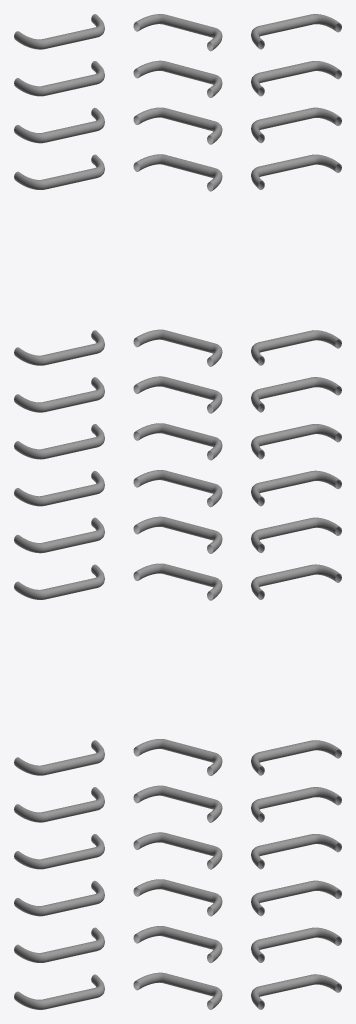
Rendered from -Ladder-.fbx.
3 views of the same model, side by side, from view 1: azimuth 90°, elevation 25°; view 2: azimuth 210°, elevation 25°; view 3: azimuth 270°, elevation 25° (orthographic).
Parts seen in each view (by area): view 1: BezierCurve.008, BezierCurve.020, BezierCurve.012, BezierCurve.014, BezierCurve.016, BezierCurve.005, BezierCurve.015, BezierCurve.018, BezierCurve.009, BezierCurve.010, BezierCurve.011, BezierCurve.006 (+4 smaller); view 2: BezierCurve.017, BezierCurve.007, BezierCurve.014, BezierCurve.015, BezierCurve.018, BezierCurve.005, BezierCurve.011, BezierCurve.006, BezierCurve.008, BezierCurve.010, BezierCurve.016, BezierCurve.019 (+4 smaller); view 3: BezierCurve.009, BezierCurve.006, BezierCurve.011, BezierCurve.016, BezierCurve.015, BezierCurve.018, BezierCurve.005, BezierCurve.010, BezierCurve.008, BezierCurve.012, BezierCurve.020, BezierCurve.004 (+4 smaller).
Boxes of the visible parts, x1,y1,x2,y2 form: BezierCurve.008: (14,787,104,822); BezierCurve.020: (14,14,104,49); BezierCurve.012: (14,470,104,506); BezierCurve.014: (14,424,104,459); BezierCurve.016: (14,330,104,365); BezierCurve.005: (14,880,104,916); BezierCurve.015: (14,377,104,412); BezierCurve.018: (14,107,104,143); BezierCurve.009: (14,740,104,775); BezierCurve.010: (14,564,104,599); BezierCurve.011: (14,517,104,553); BezierCurve.006: (14,974,104,1009); BezierCurve.017: (133,154,222,191); BezierCurve.007: (133,832,222,869); BezierCurve.014: (133,423,222,460); BezierCurve.015: (133,376,222,413); BezierCurve.018: (133,107,222,144); BezierCurve.005: (133,879,222,916); BezierCurve.011: (133,516,222,553); BezierCurve.006: (133,972,222,1009); BezierCurve.008: (133,785,222,822); BezierCurve.010: (133,563,222,600); BezierCurve.016: (133,329,222,366); BezierCurve.019: (133,60,222,97); BezierCurve.009: (251,740,341,775); BezierCurve.006: (251,974,341,1009); BezierCurve.011: (251,517,341,553); BezierCurve.016: (251,330,341,365); BezierCurve.015: (251,377,341,412); BezierCurve.018: (251,107,341,143); BezierCurve.005: (251,880,341,916); BezierCurve.010: (251,564,341,599); BezierCurve.008: (251,787,341,822); BezierCurve.012: (251,470,341,506); BezierCurve.020: (251,14,341,49); BezierCurve.004: (251,927,341,962).
Bounding box in the file's own units: 0.7867 × 12.42 × 1.06.
